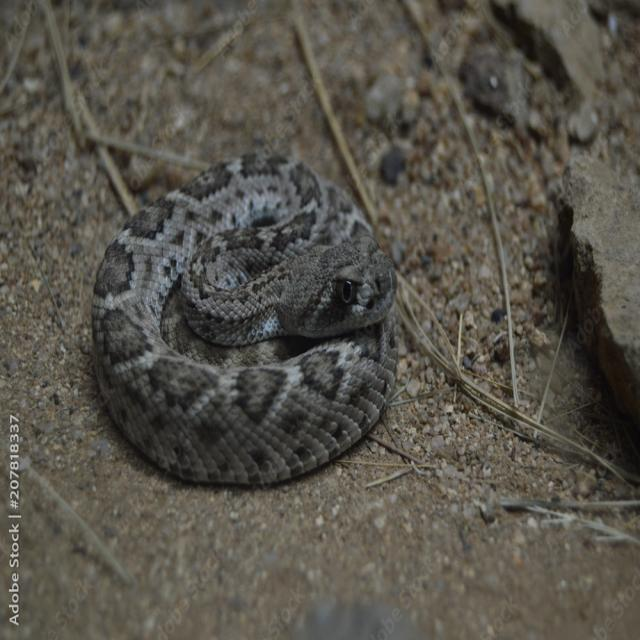Snake: (77, 119, 438, 511)
